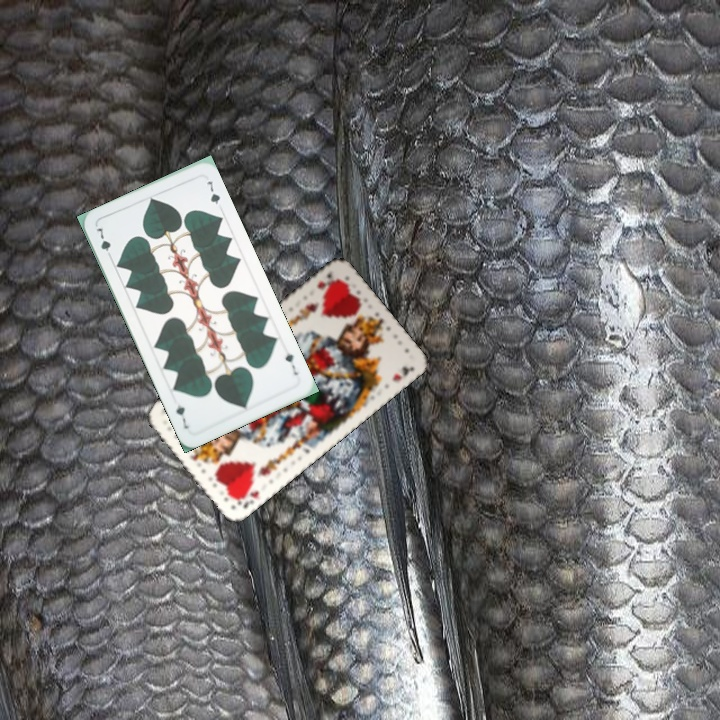G7: (92, 224, 114, 261), (281, 349, 301, 378)
HK: (232, 482, 262, 512), (313, 269, 340, 292)
